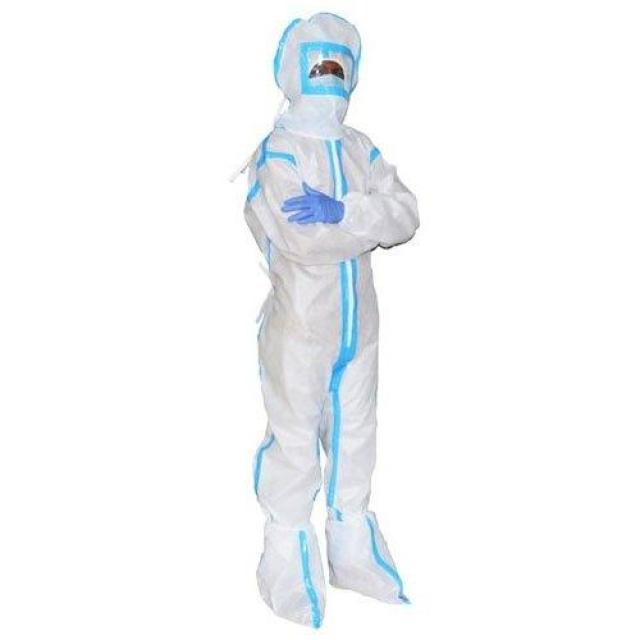Coverall: (234, 9, 425, 632)
Gloves: (280, 178, 343, 230)
